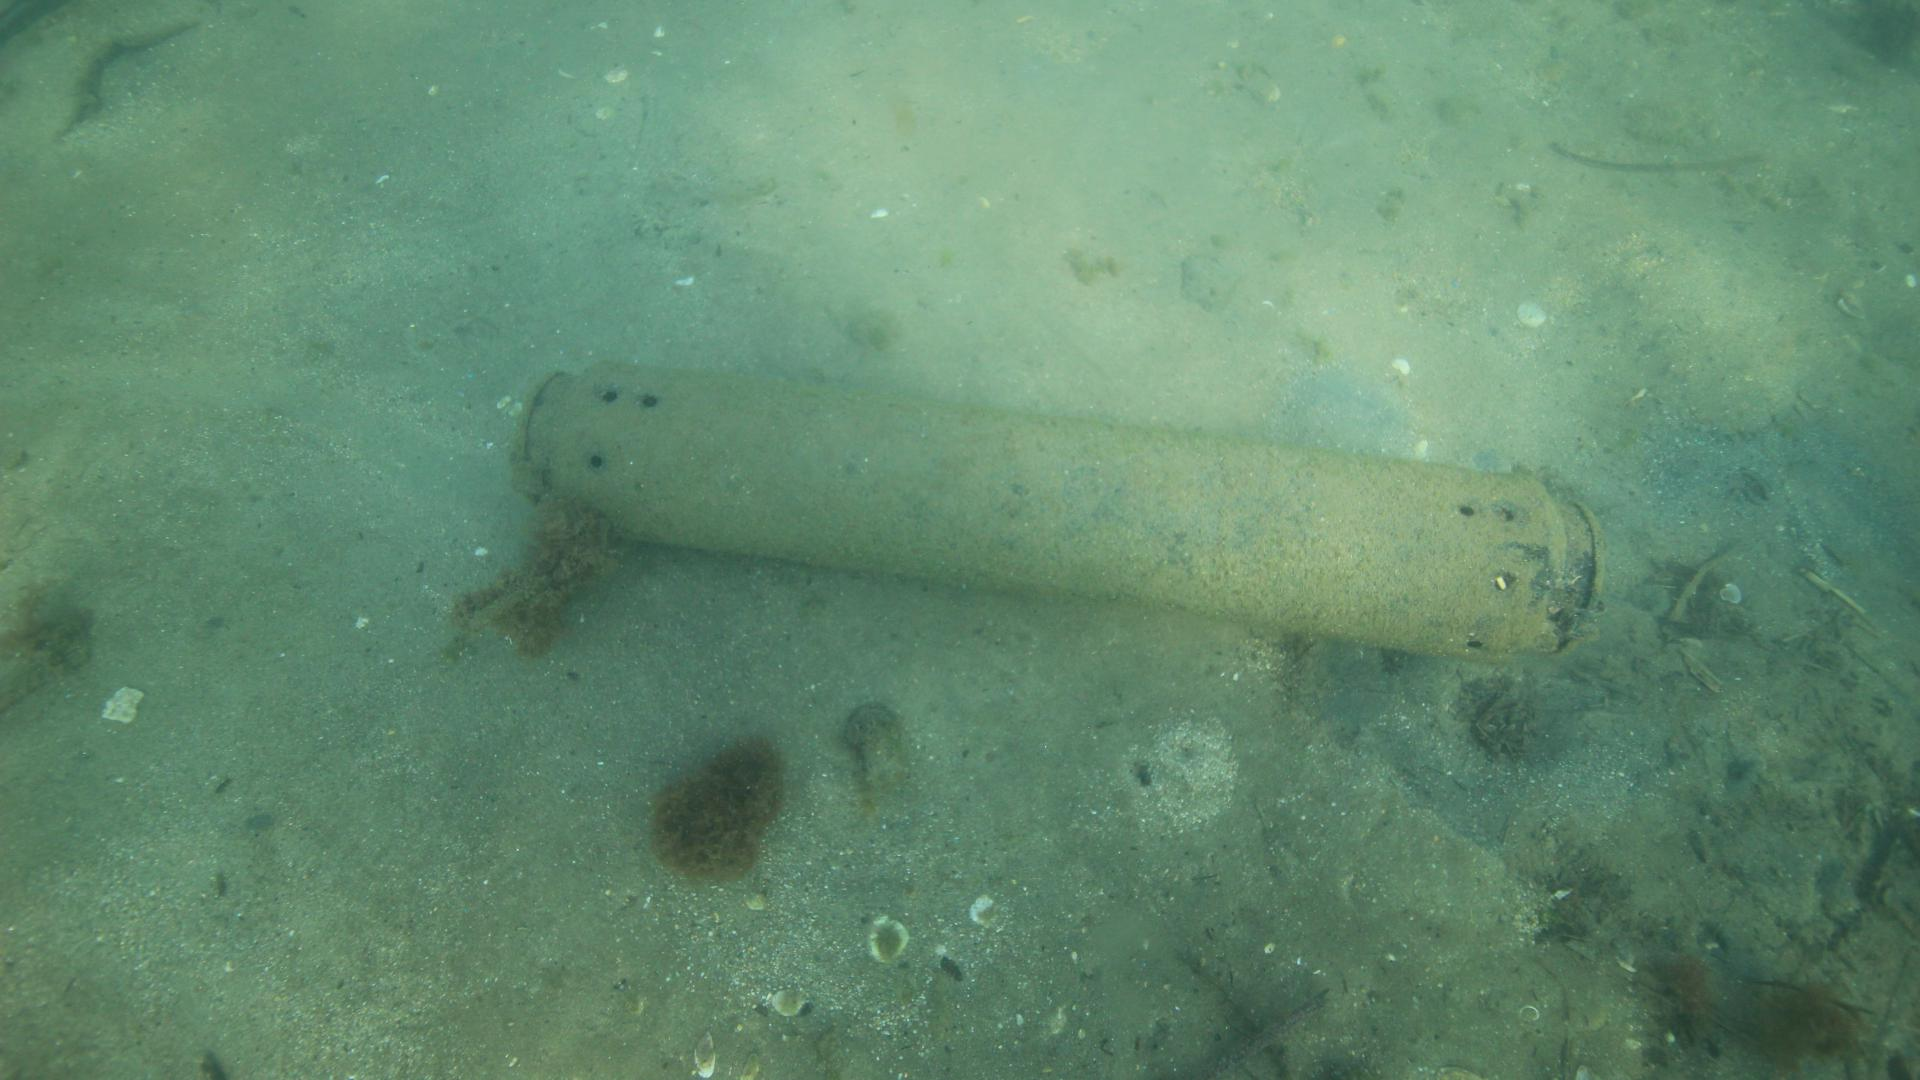eel fish trap: (514, 356, 1607, 663)
